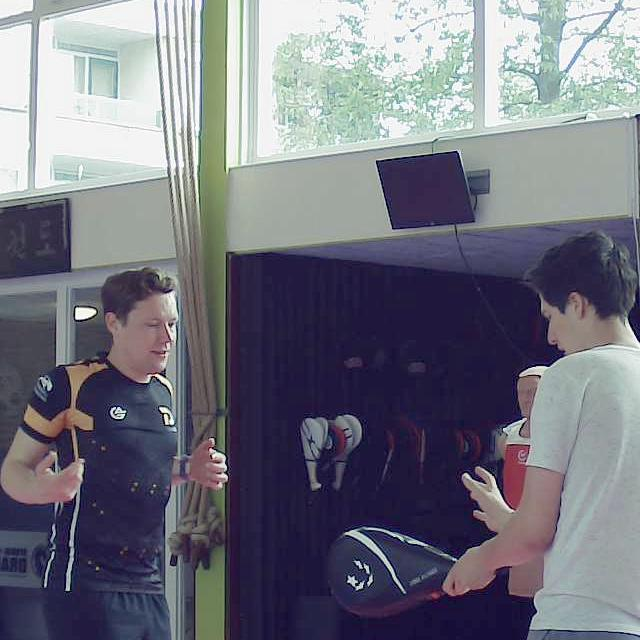paddle: (325, 521, 470, 621)
